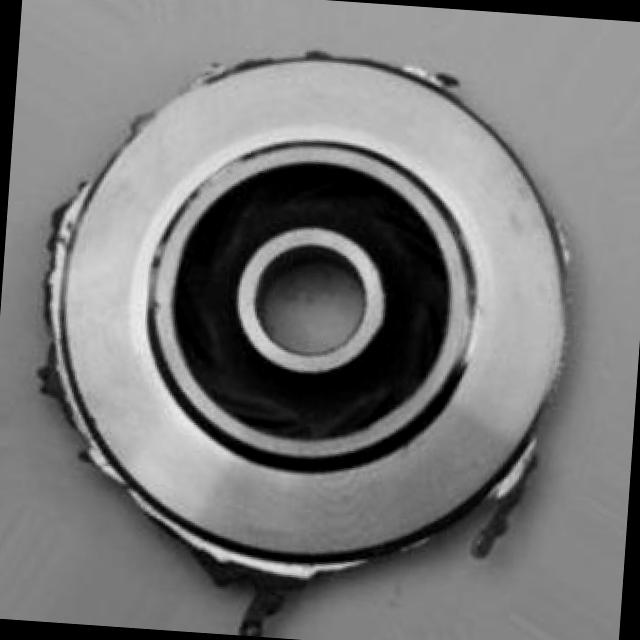Defect: (492, 439, 536, 533)
